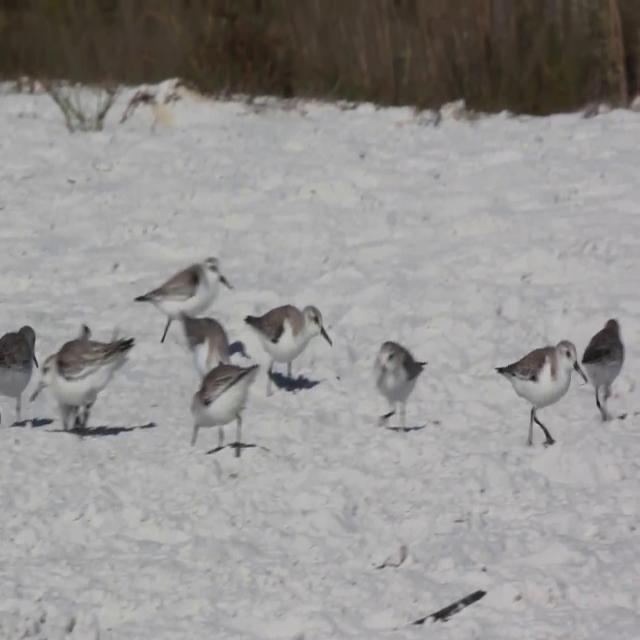bird: (11, 324, 140, 434), (490, 341, 592, 448), (126, 259, 237, 348), (183, 360, 280, 452), (230, 303, 333, 389), (367, 341, 432, 439), (577, 322, 634, 422), (0, 328, 39, 422)
